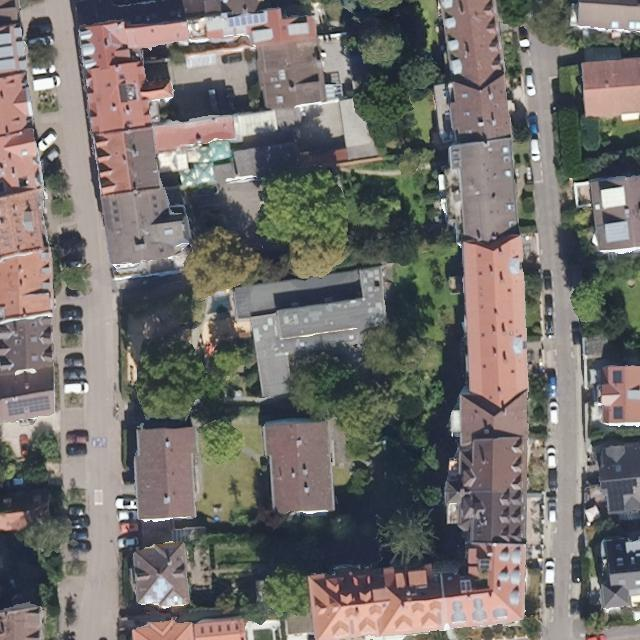PV: (601, 478, 638, 513), (8, 395, 51, 417), (152, 578, 170, 601), (478, 557, 490, 574), (459, 577, 471, 594), (612, 369, 622, 383), (613, 406, 622, 420)
